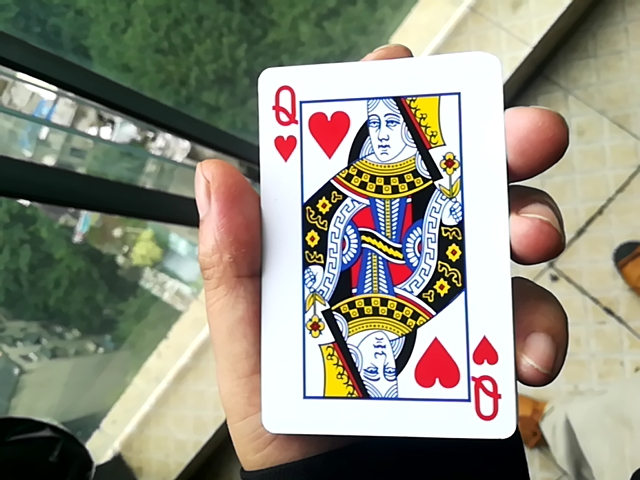hx q: (239, 44, 518, 439)
